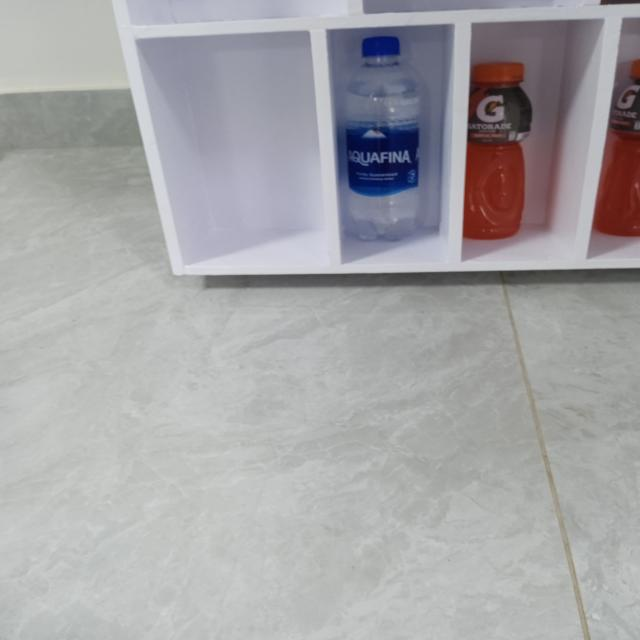Plastic: (341, 38, 426, 240), (466, 63, 532, 239), (603, 68, 636, 230)
